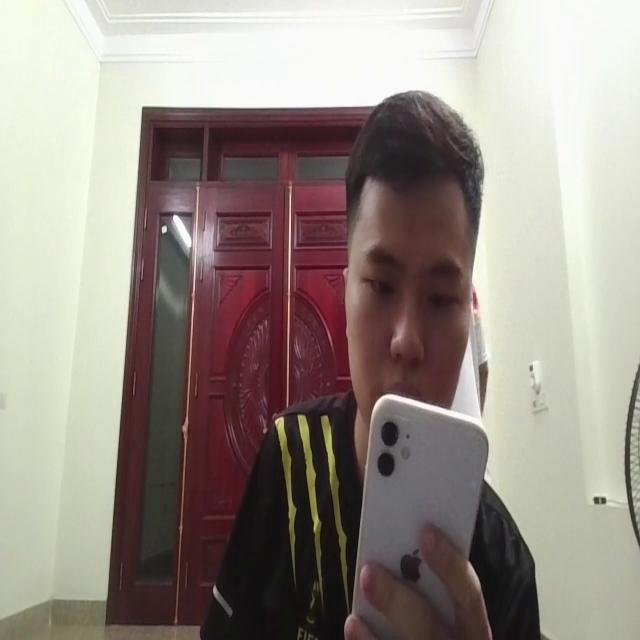phone: (351, 369, 488, 639)
student: (214, 79, 542, 640)
